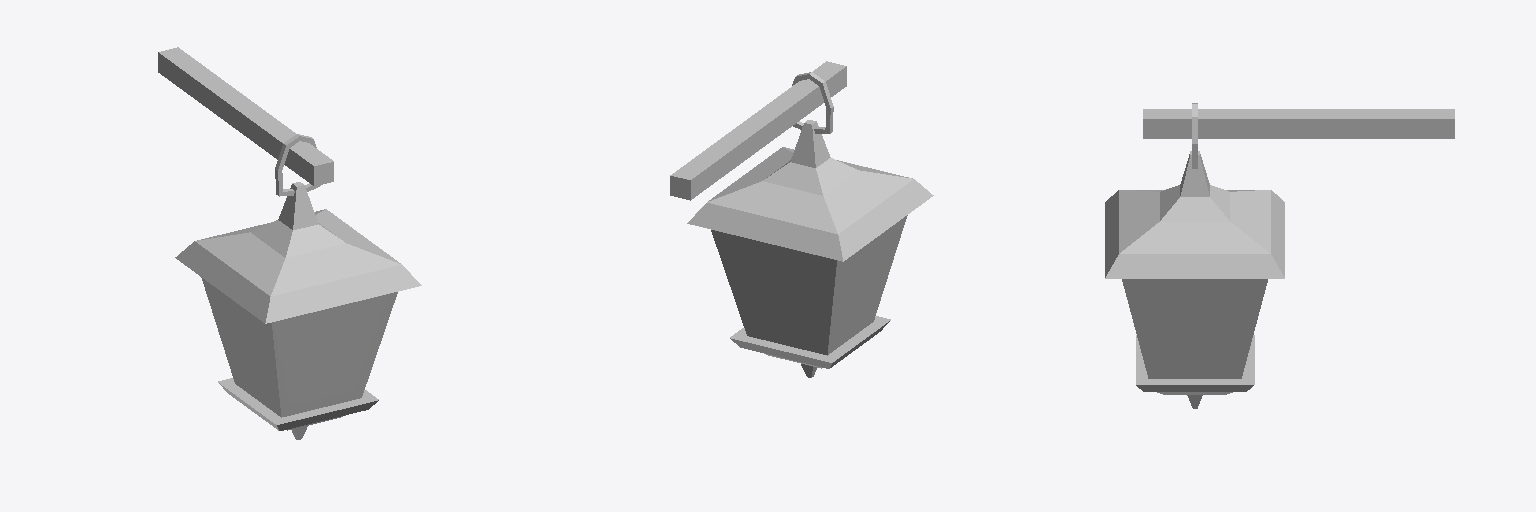
Rendered from desk_lamp_3.obj.
3 renders of one model, left to right at view 1: azimuth 30°, elevation 25°; view 2: azimuth 150°, elevation 25°; view 3: azimuth 270°, elevation 25°, orthographic.
Size of the model in its own units: 0.2921 by 0.542 by 0.5665.